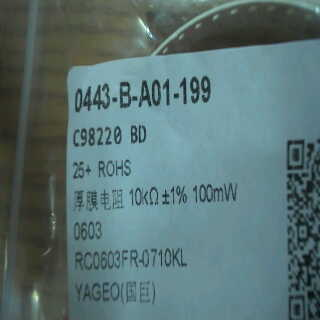10kR: (129, 186, 158, 206)
